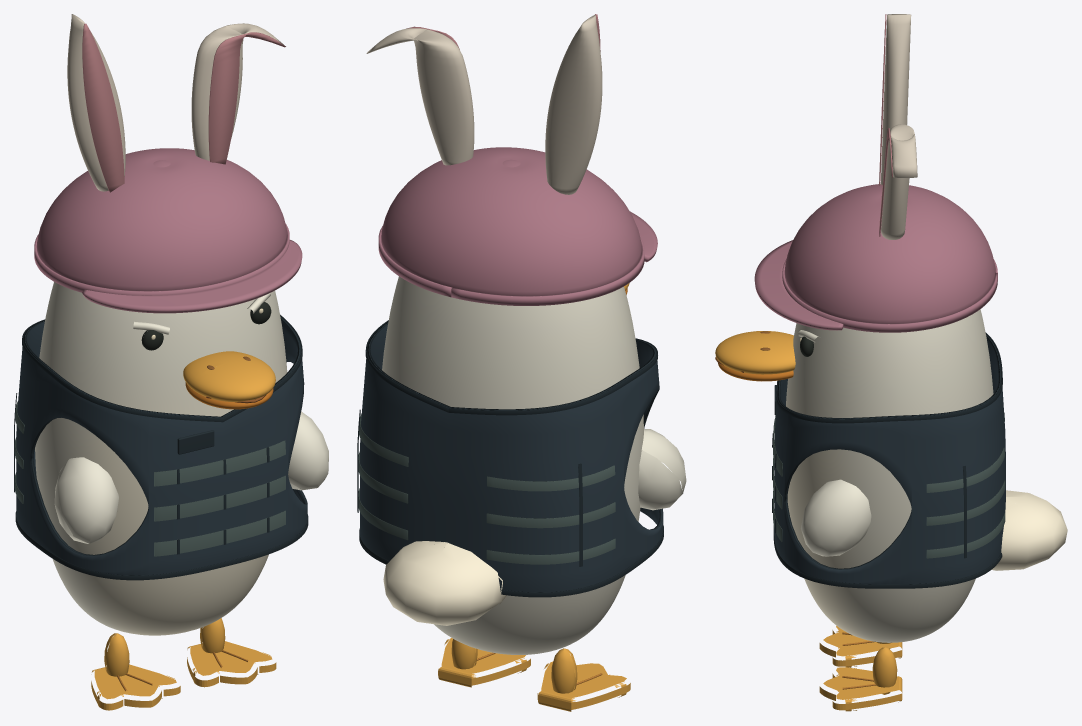
The model's file is goose-headwear-bunny-character.glb.
3 renders of one model, left to right at view 1: azimuth 30°, elevation 25°; view 2: azimuth 150°, elevation 25°; view 3: azimuth 270°, elevation 25°, orthographic. The views are drawn at different scales.
Parts seen in each view (by area): view 1: goose_headwear_bunny_mesh, goose_vest_refined_mesh, goose_torso_mesh, goose_leftArm_mesh, goose_beak_mesh, goose_leftFoot_mesh, goose_rightFoot_mesh, goose_rightArm_mesh; view 2: goose_vest_refined_mesh, goose_headwear_bunny_mesh, goose_torso_mesh, goose_tail_mesh, goose_leftFoot_mesh, goose_leftArm_mesh, goose_rightFoot_mesh; view 3: goose_headwear_bunny_mesh, goose_torso_mesh, goose_vest_refined_mesh, goose_rightArm_mesh, goose_tail_mesh, goose_beak_mesh, goose_rightFoot_mesh, goose_leftFoot_mesh.
Boxes of the visible parts, x1,y1,x2,y2 form: goose_headwear_bunny_mesh: [34, 14, 302, 313]; goose_vest_refined_mesh: [14, 314, 308, 580]; goose_torso_mesh: [35, 282, 287, 635]; goose_leftArm_mesh: [54, 457, 118, 543]; goose_beak_mesh: [183, 351, 275, 409]; goose_leftFoot_mesh: [91, 633, 180, 710]; goose_rightFoot_mesh: [187, 618, 276, 687]; goose_rightArm_mesh: [288, 411, 328, 490]; goose_vest_refined_mesh: [357, 320, 663, 597]; goose_headwear_bunny_mesh: [366, 14, 657, 305]; goose_torso_mesh: [382, 276, 643, 654]; goose_tail_mesh: [383, 541, 506, 625]; goose_leftFoot_mesh: [537, 648, 630, 711]; goose_leftArm_mesh: [638, 429, 686, 510]; goose_rightFoot_mesh: [438, 638, 530, 687]; goose_headwear_bunny_mesh: [754, 14, 997, 332]; goose_torso_mesh: [786, 309, 993, 642]; goose_vest_refined_mesh: [772, 332, 1005, 588]; goose_rightArm_mesh: [801, 479, 871, 556]; goose_tail_mesh: [991, 490, 1067, 570]; goose_beak_mesh: [715, 331, 795, 381]; goose_rightFoot_mesh: [819, 647, 902, 711]; goose_leftFoot_mesh: [819, 626, 902, 667].
Bounding box in the file's own units: 1.1 × 2.67 × 1.37.
